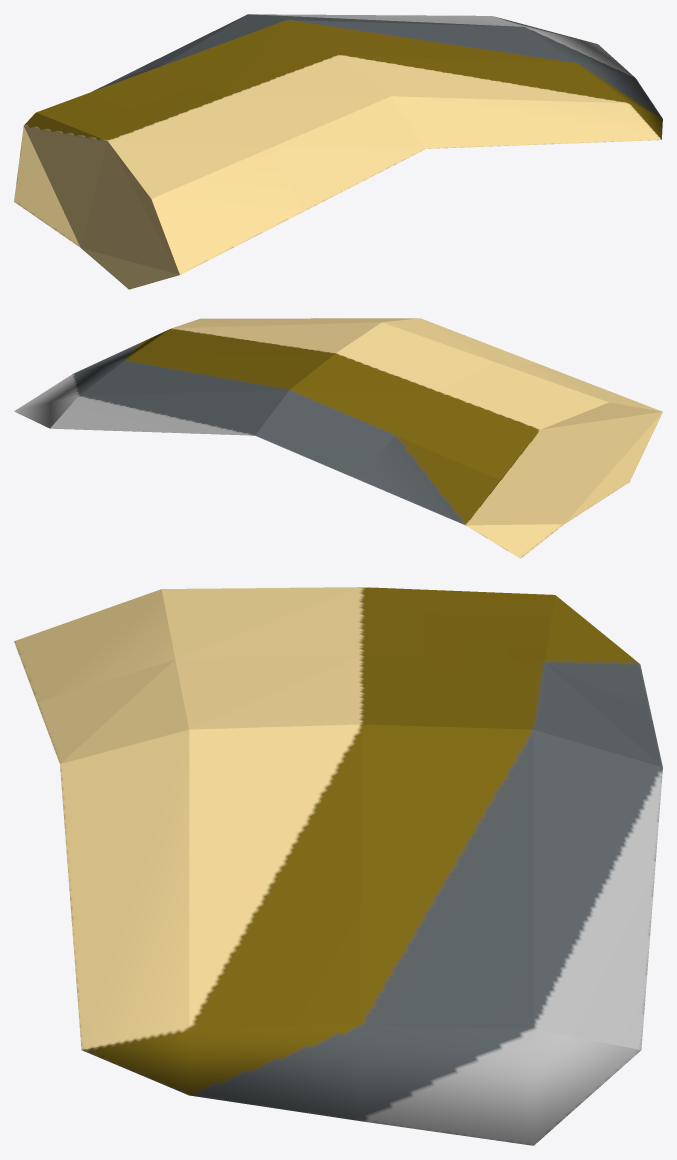
The model's file is wing 1.FBX.
3 renders of one model, top to bottom at view 1: azimuth 30°, elevation 25°; view 2: azimuth 150°, elevation 25°; view 3: azimuth 270°, elevation 25°, orthographic. The views are drawn at different scales.
Visible parts, largest first — view 1: Box001; view 2: Box001; view 3: Box001.
Part boxes in pixels (left/top/right/bottom): Box001: left=14, top=14, right=662, bottom=289; Box001: left=14, top=318, right=662, bottom=558; Box001: left=14, top=587, right=662, bottom=1145.
Size of the model in its own units: 86.47 by 18.43 by 50.56.
1 material, 1 textured.
